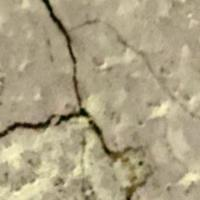crack: (1, 0, 139, 176)
